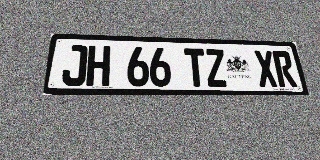6: (149, 47, 172, 86), (127, 46, 149, 86)
H: (86, 45, 110, 86)
J: (61, 45, 88, 86)
R: (272, 51, 298, 87)
T: (184, 48, 207, 87)
X: (253, 50, 279, 87)
Z: (204, 49, 228, 87)
